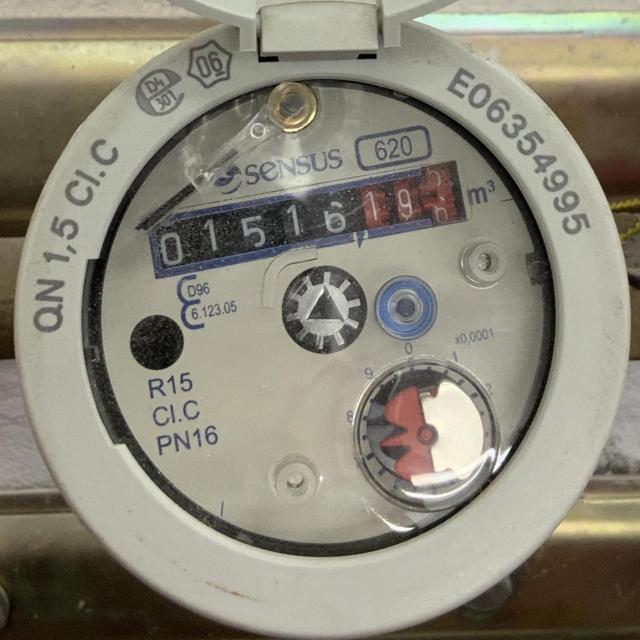gaz_meter: (11, 18, 631, 636)
indication: (141, 155, 470, 286)
